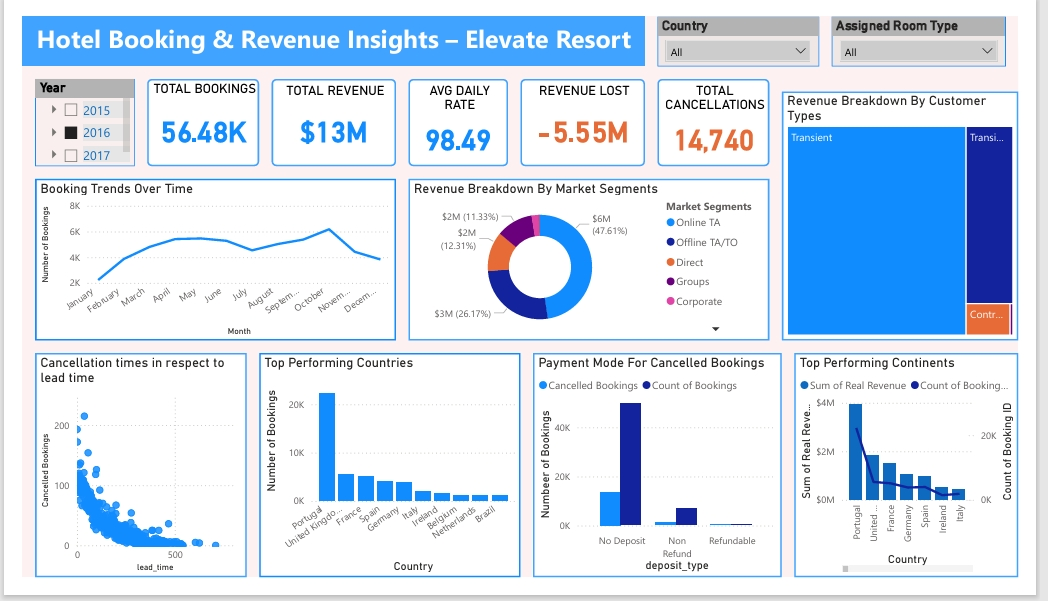

The page's visual inventory and layout, read from the dashboard file:
{"tool":"powerbi","page":{"name":"dashboard","canvas":[1280,720],"ordinal":7},"visuals":[{"type":"slicer","title":"Country","fields":{"Values":["Geo data.Country"]},"box":[816,0,208,64],"z":0},{"type":"slicer","title":"Year","fields":{"Values":["hotel_bookings.Date .Variation.Date Hierarchy.Year","hotel_bookings.Date .Variation.Date Hierarchy.Quarter"]},"box":[16,80,128,112],"z":1000},{"type":"card","title":"TOTAL BOOKINGS","fields":{"Values":["CountNonNull(hotel_bookings.Booking ID)"]},"box":[160,80,144,112],"z":2000},{"type":"card","title":"TOTAL CANCELLATIONS","fields":{"Values":["Sum(hotel_bookings.is_cancelled)"]},"box":[816,80,144,112],"z":3000},{"type":"card","title":"TOTAL REVENUE","fields":{"Values":["Sum(hotel_bookings.Real Revenue)"]},"box":[320,80,160,112],"z":4000},{"type":"card","title":"REVENUE LOST","fields":{"Values":["Sum(hotel_bookings.Lost Revenue)"]},"box":[640,80,160,112],"z":5000},{"type":"lineChart","title":"Booking Trends Over Time","fields":{"Y":["CountNonNull(hotel_bookings.Booking ID)"],"Category":["hotel_bookings.Date .Variation.Date Hierarchy.Month"]},"box":[16,208,464,208],"z":6000},{"type":"columnChart","title":"Top Performing Countries","fields":{"Category":["Geo data.Country"],"Y":["CountNonNull(hotel_bookings.Booking ID)"]},"box":[304,432,336,288],"z":7000},{"type":"donutChart","title":"Revenue Breakdown By Market Segments","fields":{"Category":["hotel_bookings.market_segment"],"Y":["Sum(hotel_bookings.Real Revenue)"]},"box":[496,208,464,208],"z":8000},{"type":"treemap","title":"Revenue Breakdown By Customer Types","fields":{"Group":["hotel_bookings.customer_type"],"Values":["Sum(hotel_bookings.Real Revenue)"]},"box":[976,96,304,320],"z":9000},{"type":"scatterChart","title":"Cancellation times in respect to lead time","fields":{"Y":["Sum(hotel_bookings.is_cancelled)"],"X":["hotel_bookings.lead_time"]},"box":[16,432,272,288],"z":10000},{"type":"clusteredColumnChart","title":"Payment Mode For Cancelled Bookings","fields":{"Category":["hotel_bookings.deposit_type"],"Y":["Sum(hotel_bookings.is_cancelled)","CountNonNull(hotel_bookings.Booking ID)"]},"box":[656,432,320,288],"z":11000},{"type":"filledMap","title":"Top Performing Continents","fields":{"Category":["Geo data.Country"]},"box":[992,432,288,288],"z":12000},{"type":"textbox","box":[0,0,800,64],"z":13000},{"type":"slicer","title":"Assigned Room Type","fields":{"Values":["hotel_bookings.assigned_room_type"]},"box":[1040,0,224,64],"z":14000},{"type":"card","title":"AVG DAILY RATE","fields":{"Values":["Avg(hotel_bookings.adr)"]},"box":[496,80,128,112],"z":15000}]}

Visuals, with their boxes in screenshot pixels (x1, y1, x2, y2), scaled from the page's 1280x720 canvas onto the 1048x601 screenshot:
"Country" slicer: (left=668, top=0, right=838, bottom=53)
"Year" slicer: (left=13, top=67, right=118, bottom=160)
"TOTAL BOOKINGS" card: (left=131, top=67, right=249, bottom=160)
"TOTAL CANCELLATIONS" card: (left=668, top=67, right=786, bottom=160)
"TOTAL REVENUE" card: (left=262, top=67, right=393, bottom=160)
"REVENUE LOST" card: (left=524, top=67, right=655, bottom=160)
"Booking Trends Over Time" lineChart: (left=13, top=174, right=393, bottom=347)
"Top Performing Countries" columnChart: (left=249, top=361, right=524, bottom=600)
"Revenue Breakdown By Market Segments" donutChart: (left=406, top=174, right=786, bottom=347)
"Revenue Breakdown By Customer Types" treemap: (left=799, top=80, right=1047, bottom=347)
"Cancellation times in respect to lead time" scatterChart: (left=13, top=361, right=236, bottom=600)
"Payment Mode For Cancelled Bookings" clusteredColumnChart: (left=537, top=361, right=799, bottom=600)
"Top Performing Continents" filledMap: (left=812, top=361, right=1047, bottom=600)
textbox: (left=0, top=0, right=655, bottom=53)
"Assigned Room Type" slicer: (left=852, top=0, right=1035, bottom=53)
"AVG DAILY RATE" card: (left=406, top=67, right=511, bottom=160)
